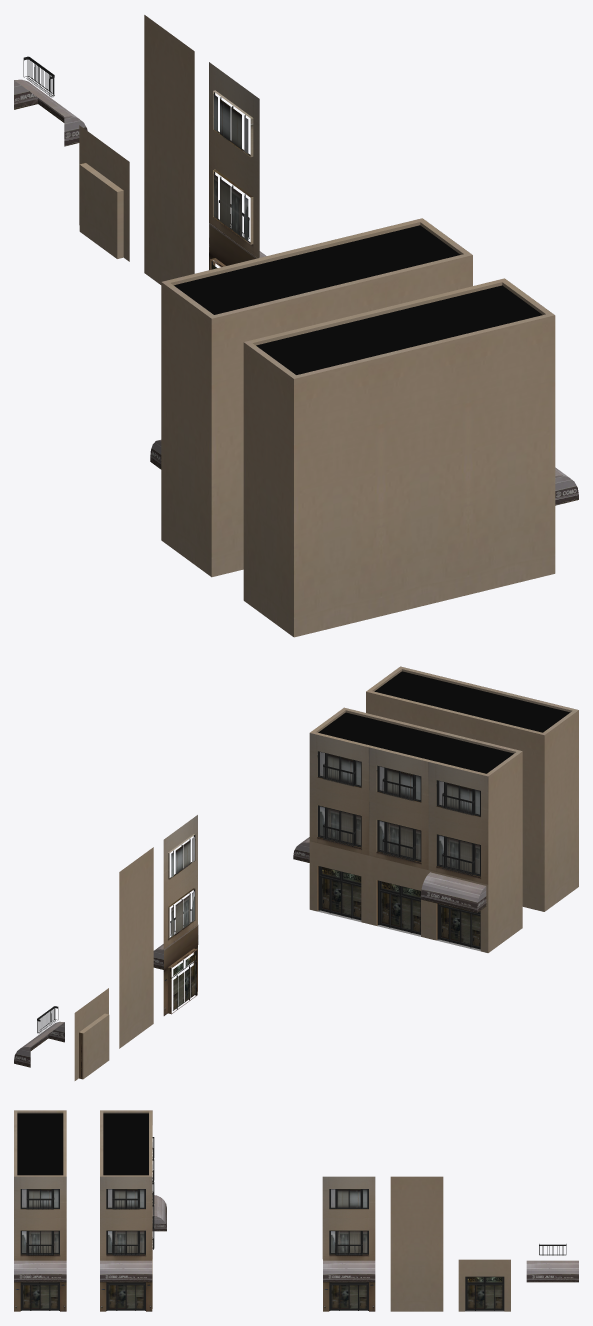
The picture shows the model from 3 angles, top to bottom: view 1: azimuth 30°, elevation 25°; view 2: azimuth 150°, elevation 25°; view 3: azimuth 270°, elevation 25°; orthographic projection. The views are drawn at different scales.
Parts seen in each view (by area): view 1: 001.3_Building_facade.001, 001.3_Building_facade.003, 001.3_Building_facade.002, 001.3_Building_facade.004, Roof, Roof.001, 002.3_Building_facade, 002.2_Building_facade, 002.4_Building_facade, 002.2_Building_prop, 002.1_Building_facade; view 2: 001.2_Building_facade.003, 001.4_Building_facade.001, 001.3_Building_facade.001, 001.3_Building_facade.002, 002.3_Building_facade, 001.3_Building_facade.004, Roof.001, Roof, 002.2_Building_facade, 002.1_Building_facade, 002.4_Building_facade, 001.4_Building_prop.003 (+2 smaller); view 3: 002.3_Building_facade, 002.2_Building_facade, 001.2_Building_facade.001, 001.2_Building_facade.002, Roof, Roof.001, 002.4_Building_facade, 002.1_Building_facade, 001.1_Building_facade.001, 001.1_Building_facade.002, 002.2_Building_prop, 001.4_Building_prop.002 (+4 smaller).
Boxes of the visible parts, x1=… form: 001.3_Building_facade.001: x1=294, y1=315, x2=555, y2=637; 001.3_Building_facade.003: x1=211, y1=255, x2=472, y2=576; 001.3_Building_facade.002: x1=243, y1=342, x2=293, y2=636; 001.3_Building_facade.004: x1=161, y1=282, x2=211, y2=576; Roof: x1=244, y1=278, x2=554, y2=378; Roof.001: x1=162, y1=218, x2=472, y2=318; 002.3_Building_facade: x1=144, y1=15, x2=194, y2=284; 002.2_Building_facade: x1=209, y1=62, x2=259, y2=256; 002.4_Building_facade: x1=79, y1=125, x2=129, y2=261; 002.2_Building_prop: x1=14, y1=79, x2=87, y2=146; 002.1_Building_facade: x1=209, y1=220, x2=266, y2=269; 001.2_Building_facade.003: x1=309, y1=733, x2=488, y2=884; 001.4_Building_facade.001: x1=309, y1=841, x2=488, y2=952; 001.3_Building_facade.001: x1=366, y1=692, x2=544, y2=911; 001.3_Building_facade.002: x1=544, y1=710, x2=578, y2=911; 002.3_Building_facade: x1=119, y1=847, x2=153, y2=1048; 001.3_Building_facade.004: x1=488, y1=751, x2=522, y2=952; Roof.001: x1=310, y1=707, x2=522, y2=776; Roof: x1=366, y1=666, x2=578, y2=735; 002.2_Building_facade: x1=163, y1=815, x2=197, y2=947; 002.1_Building_facade: x1=153, y1=923, x2=198, y2=1015; 002.4_Building_facade: x1=74, y1=988, x2=109, y2=1080; 001.4_Building_prop.003: x1=420, y1=872, x2=486, y2=912; 002.3_Building_facade: x1=390, y1=1176, x2=443, y2=1311; 002.2_Building_facade: x1=322, y1=1176, x2=375, y2=1259; 001.2_Building_facade.001: x1=14, y1=1176, x2=66, y2=1259; 001.2_Building_facade.002: x1=100, y1=1176, x2=152, y2=1259; Roof: x1=14, y1=1110, x2=66, y2=1176; Roof.001: x1=100, y1=1110, x2=152, y2=1176; 002.4_Building_facade: x1=458, y1=1259, x2=510, y2=1311; 002.1_Building_facade: x1=323, y1=1259, x2=375, y2=1311; 001.1_Building_facade.001: x1=14, y1=1259, x2=66, y2=1311; 001.1_Building_facade.002: x1=100, y1=1259, x2=152, y2=1311; 002.2_Building_prop: x1=526, y1=1260, x2=578, y2=1282; 001.4_Building_prop.002: x1=100, y1=1260, x2=152, y2=1282.
Bounding box in the file's own units: 12.67 × 10.97 × 41.62.
8 materials, 5 textured.
